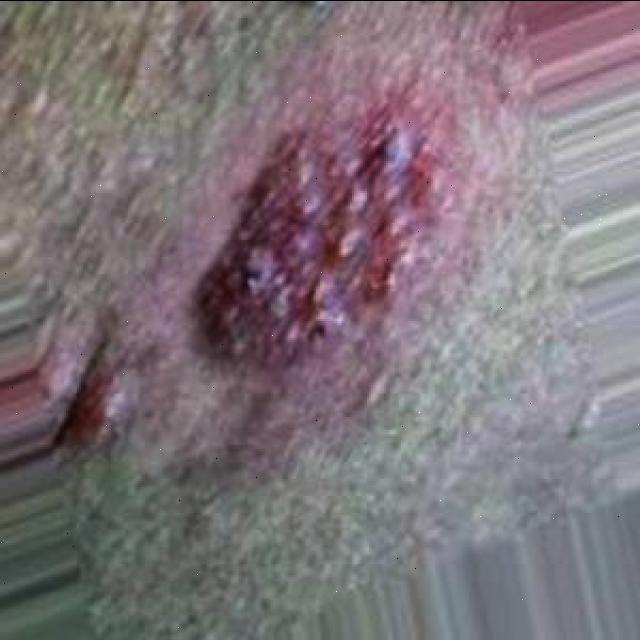Shingles: (194, 106, 447, 366)
